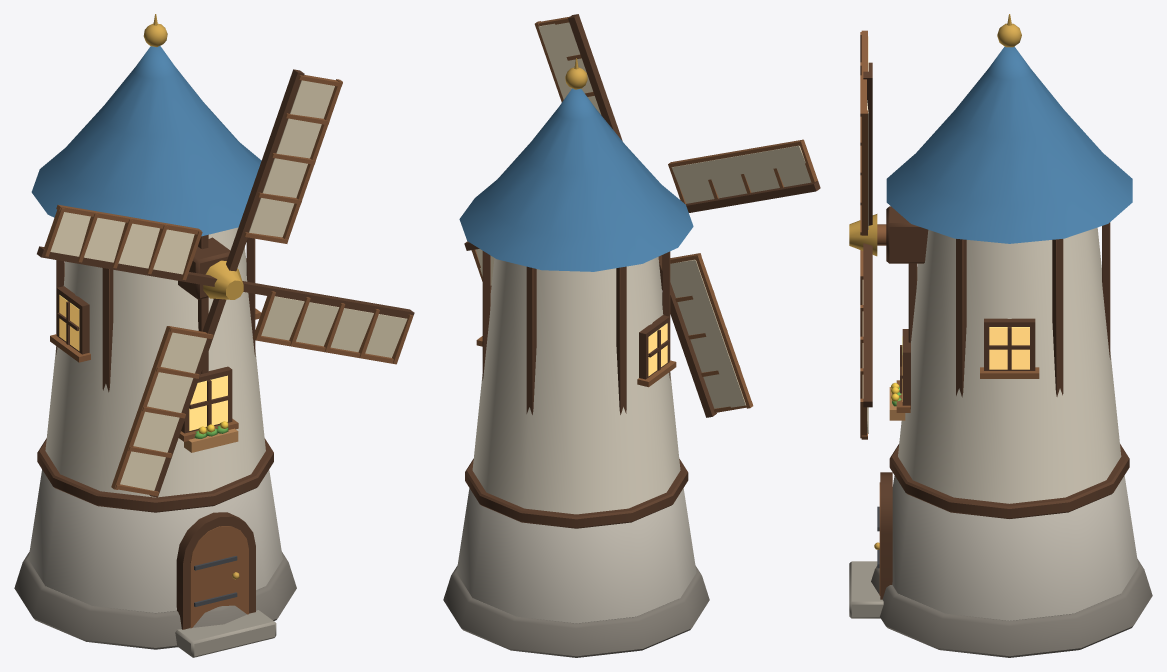
The model's file is windmill.glb.
The picture shows the model from 3 angles, left to right: view 1: azimuth 30°, elevation 25°; view 2: azimuth 150°, elevation 25°; view 3: azimuth 270°, elevation 25°; orthographic projection. The views are drawn at different scales.
Parts seen in each view (by area): view 1: TowerBody, ConeRoof, Blades_Canvas, StoneLower, Part_TimberDark, Blades_WoodWarm, BasePlinth, Blades_TimberDark, Part_WoodWarm, DoorStep, Part_WindowGlow, HubCone (+1 smaller); view 2: TowerBody, ConeRoof, StoneLower, Blades_Canvas, BasePlinth, Part_TimberDark, Blades_TimberDark, Blades_WoodWarm, Part_WindowGlow; view 3: TowerBody, ConeRoof, StoneLower, Part_TimberDark, BasePlinth, Blades_TimberDark, Blades_WoodWarm, DoorStep, Part_WindowGlow, Part_WoodWarm, HubCone, Part_Brass.
Part boxes in pixels (x1,y1,x2,y2): TowerBody: (45,227,265,497); ConeRoof: (31,46,261,236); Blades_Canvas: (50,80,407,490); StoneLower: (28,469,282,613); Part_TimberDark: (37,234,273,629); Blades_WoodWarm: (44,75,413,496); BasePlinth: (14,551,296,649); Blades_TimberDark: (37,69,414,497); Part_WoodWarm: (50,308,261,628); DoorStep: (175,610,276,657); Part_WindowGlow: (59,295,227,430); HubCone: (203,260,243,299); TowerBody: (472,257,680,514); ConeRoof: (459,88,693,271); StoneLower: (456,488,696,623); Blades_Canvas: (475,22,811,408); BasePlinth: (443,565,709,657); Part_TimberDark: (465,251,688,528); Blades_TimberDark: (464,14,820,417); Blades_WoodWarm: (471,16,817,412); Part_WindowGlow: (648,323,667,376); TowerBody: (898,227,1121,503); ConeRoof: (886,46,1132,243); StoneLower: (892,475,1138,620); Part_TimberDark: (880,206,1129,599); BasePlinth: (871,559,1152,657); Blades_TimberDark: (863,62,872,407); Blades_WoodWarm: (860,30,867,439); DoorStep: (849,561,883,618); Part_WindowGlow: (902,327,1029,401); Part_WoodWarm: (877,224,1039,595); HubCone: (849,214,877,256); Part_Brass: (874,14,1021,549).
Size of the model in its own units: 5.61 by 8.28 by 3.9.
